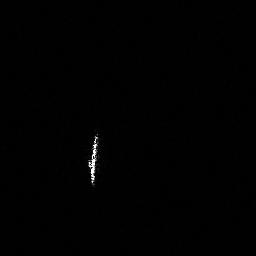ship: (84, 129, 104, 187)
